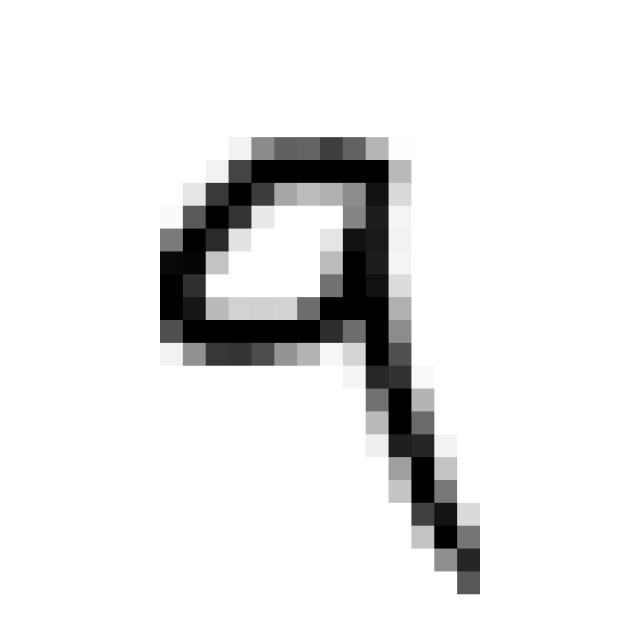9 -nine-: (142, 114, 504, 613)
